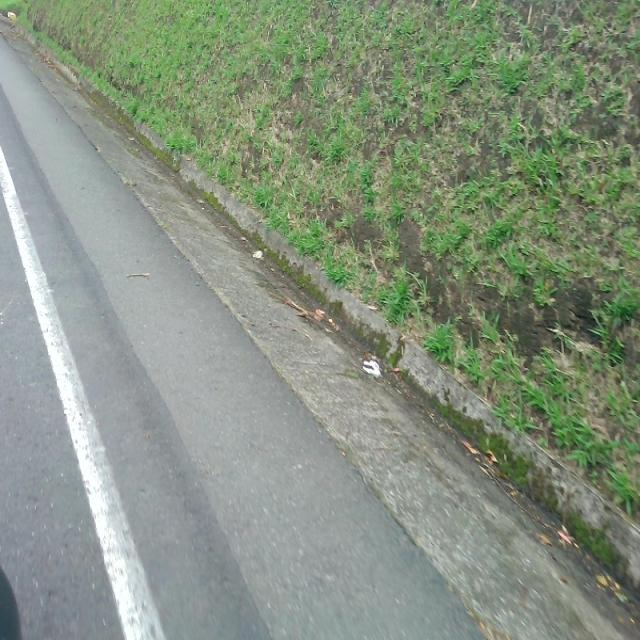DITCH: (2, 10, 638, 639)
